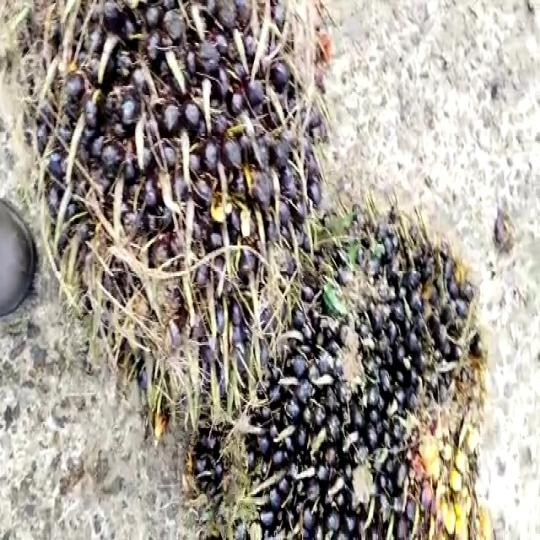mentah: (1, 0, 356, 426), (182, 207, 498, 540)
